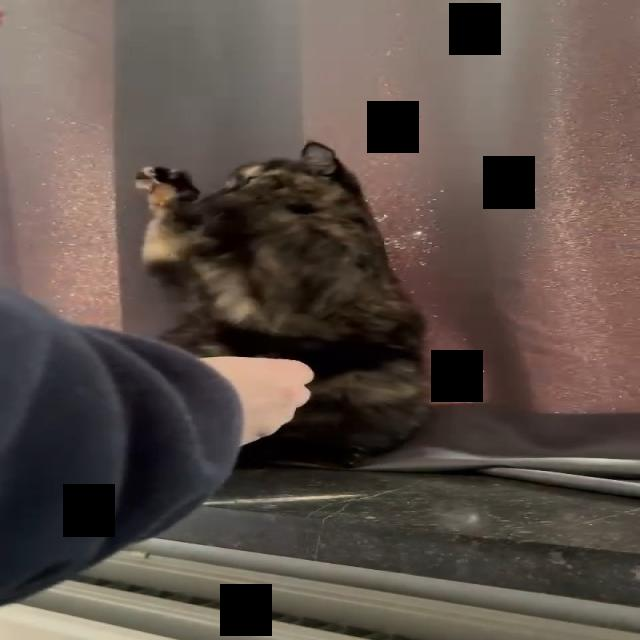authorized: (133, 139, 432, 469)
